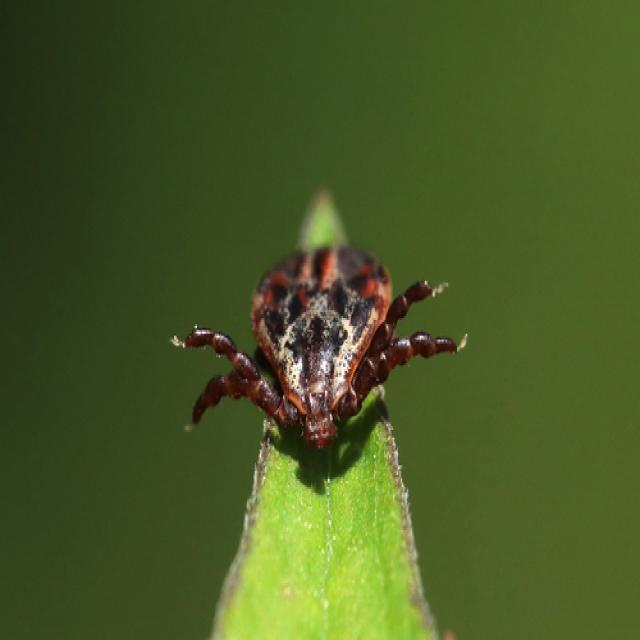Dermacentor Reticulatus-F: (173, 243, 467, 450)
